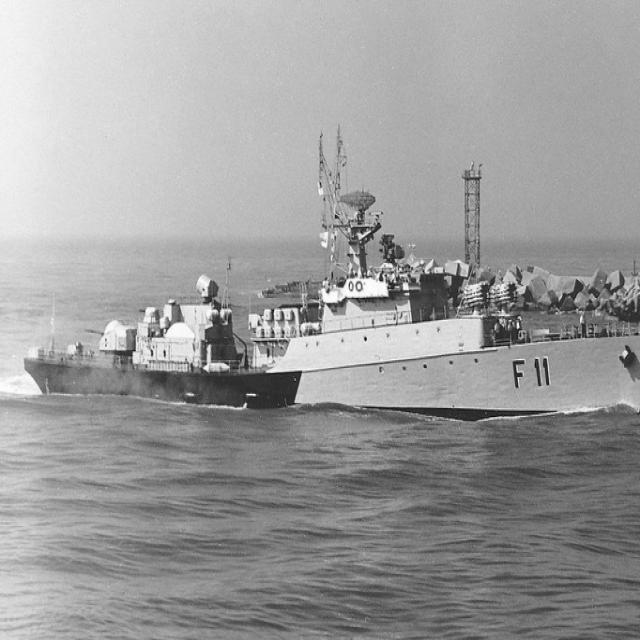Fragata: (10, 141, 640, 428)
